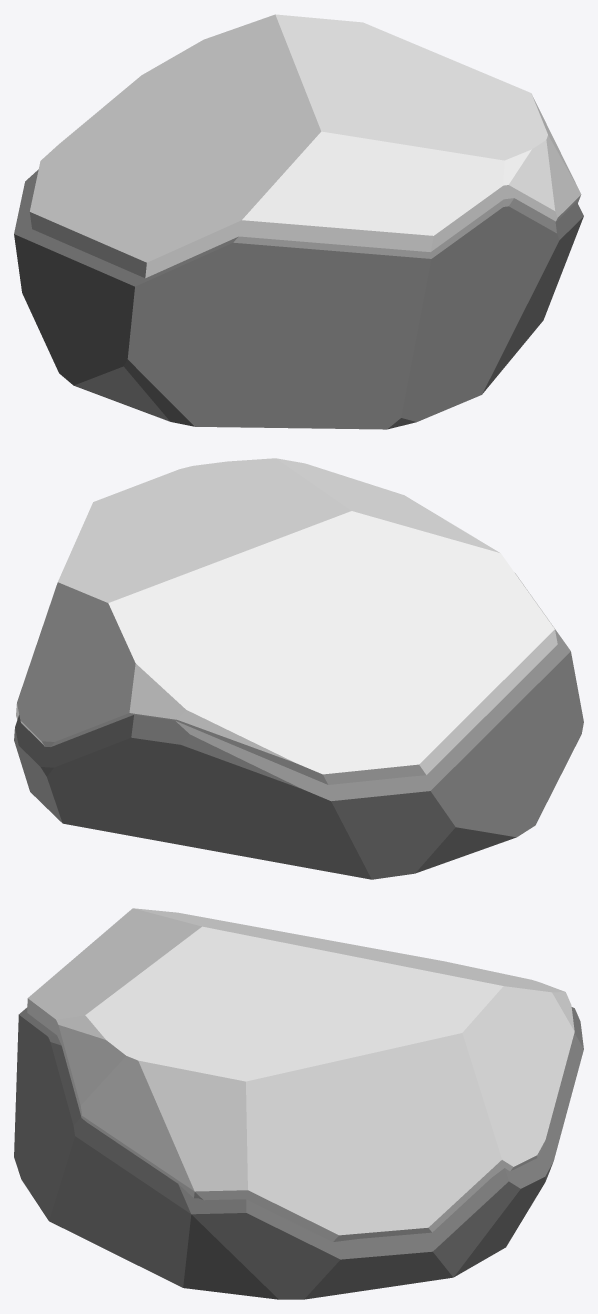
File: Stone_4_snow_pal.fbx
3 views of the same model, one above another, from view 1: azimuth 30°, elevation 25°; view 2: azimuth 150°, elevation 25°; view 3: azimuth 270°, elevation 25° (orthographic). The views are drawn at different scales.
Visible parts, largest first — view 1: Stone_4_snow_pal; view 2: Stone_4_snow_pal; view 3: Stone_4_snow_pal.
Part boxes in pixels (box(x1,y1,x2,y2)): Stone_4_snow_pal: box(14, 14, 583, 429); Stone_4_snow_pal: box(14, 458, 583, 879); Stone_4_snow_pal: box(14, 908, 583, 1299).
Bounding box in the file's own units: 91.18 × 43.44 × 89.55.
